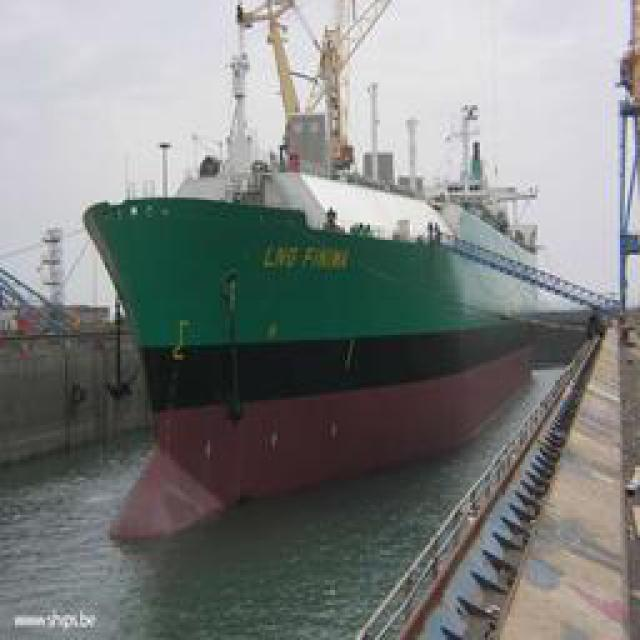Ship: (85, 64, 608, 529)
